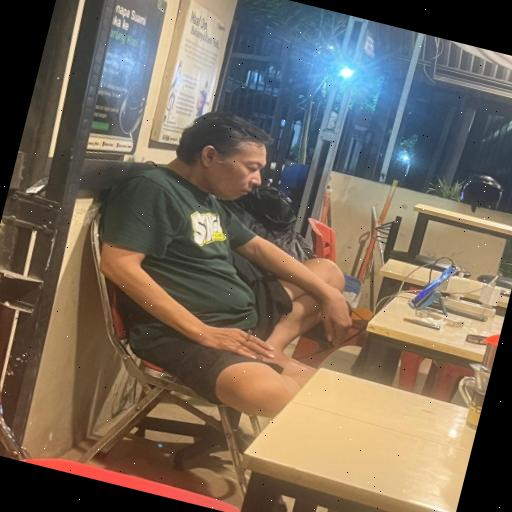pegang rokok: (207, 299, 278, 374)
